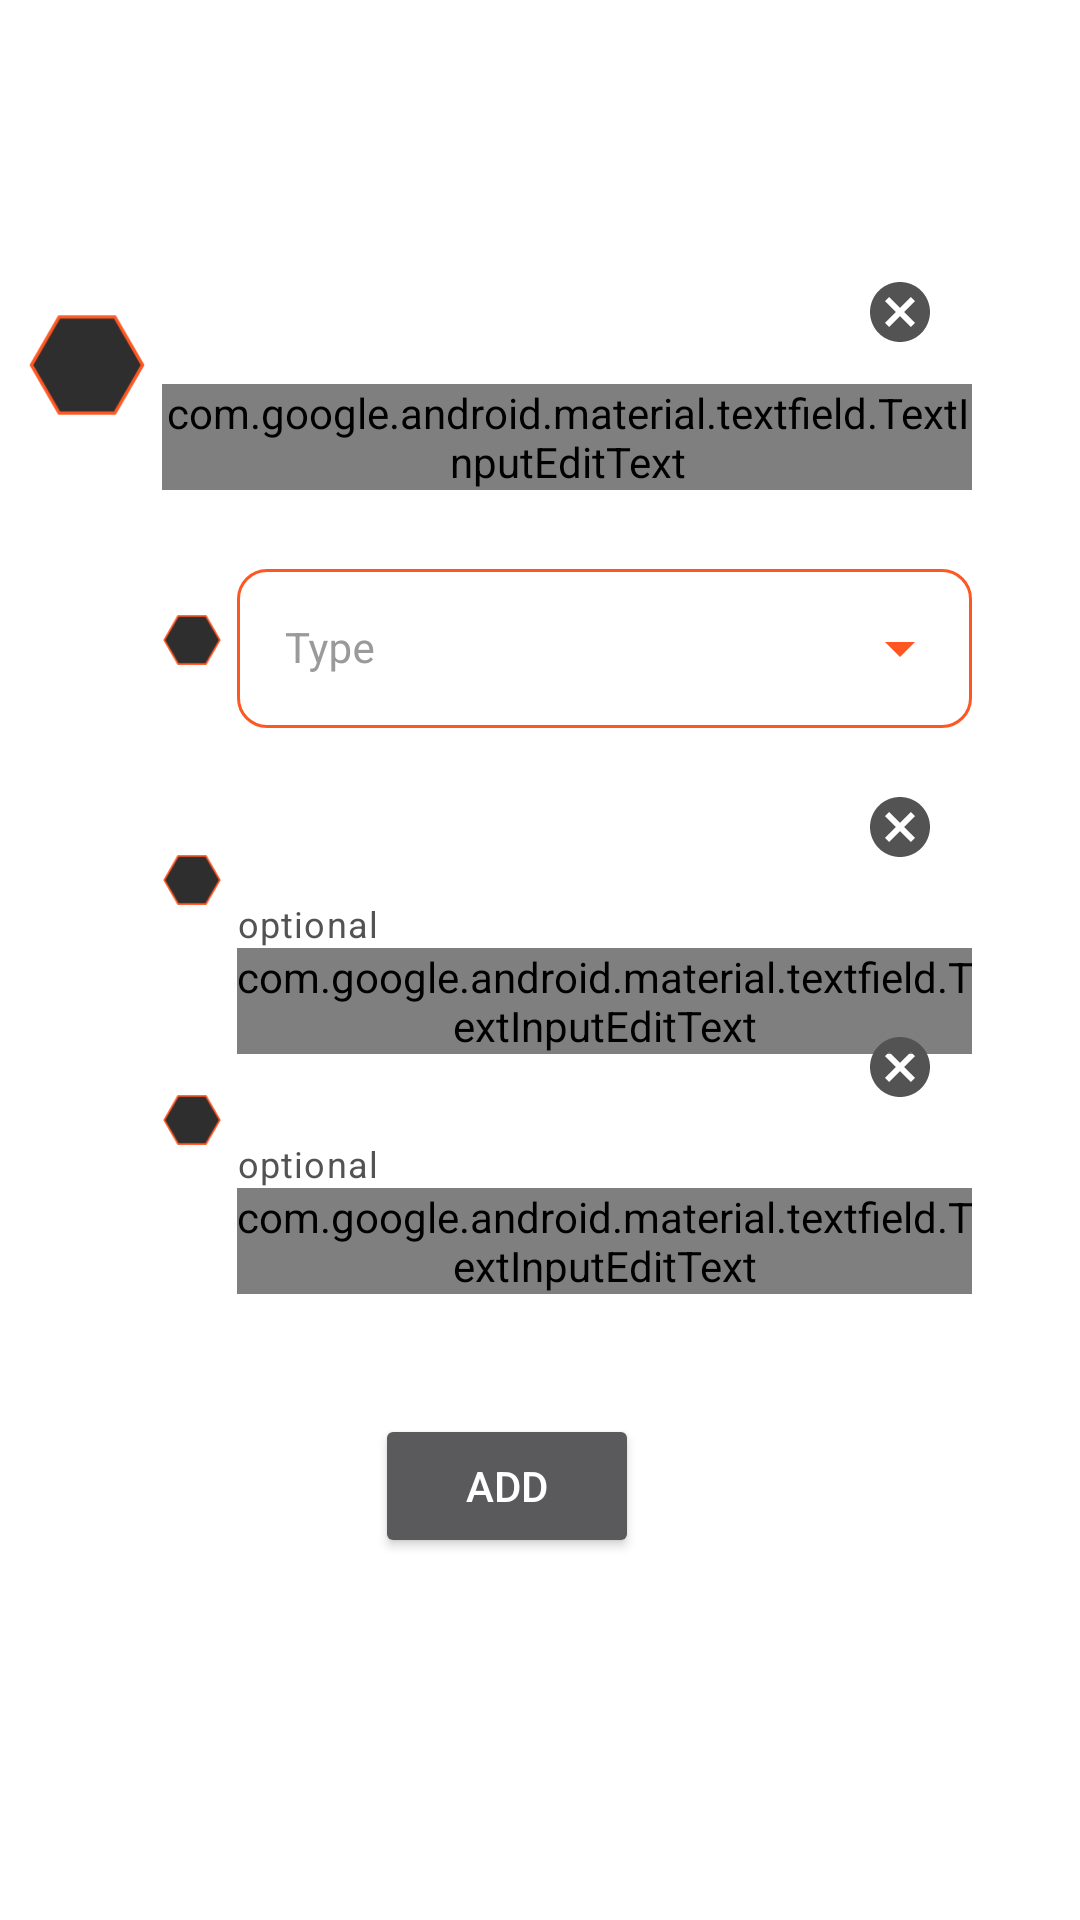

Icons on this 1080*1920 Android screen, each with its box as (x1, y1, x2, y2):
hexagon single empty: (29, 315, 145, 415), (163, 615, 221, 665), (163, 855, 221, 905), (163, 1095, 221, 1145)
